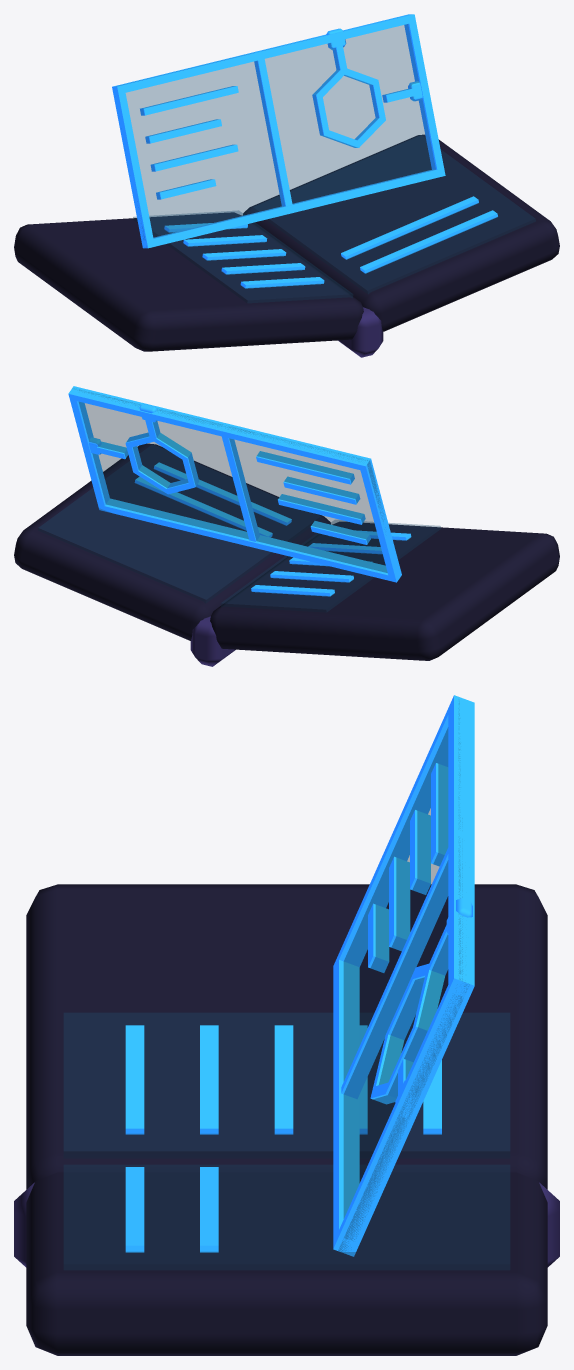
Rendered from holo_book.glb.
3 views of the same model, one above another, from view 1: azimuth 30°, elevation 25°; view 2: azimuth 150°, elevation 25°; view 3: azimuth 270°, elevation 25° (orthographic). The views are drawn at different scales.
Visible parts, largest first — view 1: item.holo_book.body; view 2: item.holo_book.body; view 3: item.holo_book.body.
Boxes of the visible parts, x1=… form: item.holo_book.body: x1=14, y1=14, x2=559, y2=357; item.holo_book.body: x1=14, y1=386, x2=559, y2=666; item.holo_book.body: x1=14, y1=695, x2=559, y2=1355.
Bounding box in the file's own units: 0.5787 × 0.2967 × 0.33.
